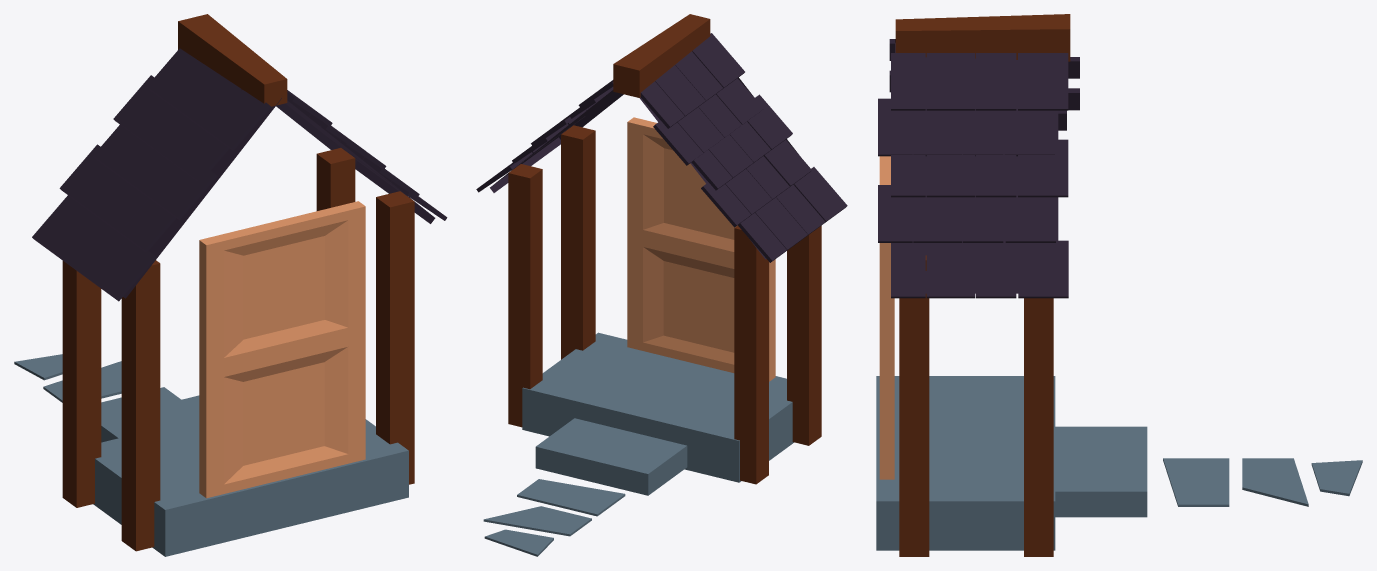
Rendered from FrontFacade.fbx.
3 renders of one model, left to right at view 1: azimuth 30°, elevation 25°; view 2: azimuth 150°, elevation 25°; view 3: azimuth 270°, elevation 25°, orthographic. The views are drawn at different scales.
Visible parts, largest first — view 1: Door, Plane.023, Cube.005, Cube.001, Cube.002, Cube.003, Cube, Cube.004, Plane.002, Plane.001, Plane, Cube.006 (+3 smaller); view 2: Door, Plane.023, Cube.005, Cube.004, Cube.003, Cube.002, Cube.006, Cube.001, Cube, Cube.007, Cube.008, Plane.002 (+2 smaller); view 3: Plane.002, Cube.005, Cube.006, Cube.002, Cube.004, Cube, Door, Cube.007, Cube.008, Cube.009, Plane.001, Plane.023.
Part boxes in pixels (left/top/right/bottom): Door: left=199, top=201, right=365, bottom=498; Plane.023: left=32, top=48, right=270, bottom=301; Cube.005: left=93, top=419, right=408, bottom=556; Cube.001: left=121, top=260, right=160, bottom=551; Cube.002: left=376, top=191, right=414, bottom=484; Cube.003: left=62, top=261, right=101, bottom=507; Cube: left=178, top=14, right=287, bottom=106; Cube.004: left=316, top=148, right=355, bottom=210; Plane.002: left=287, top=90, right=447, bottom=220; Plane.001: left=276, top=100, right=435, bottom=223; Plane: left=123, top=98, right=281, bottom=298; Cube.006: left=101, top=395, right=199, bottom=442; Door: left=627, top=117, right=775, bottom=381; Plane.023: left=640, top=33, right=847, bottom=262; Cube.005: left=522, top=332, right=793, bottom=482; Cube.004: left=508, top=164, right=542, bottom=427; Cube.003: left=734, top=226, right=768, bottom=484; Cube.002: left=561, top=125, right=595, bottom=359; Cube.006: left=535, top=418, right=687, bottom=495; Cube.001: left=787, top=225, right=821, bottom=445; Cube: left=613, top=14, right=710, bottom=97; Cube.007: left=517, top=479, right=625, bottom=516; Cube.008: left=483, top=506, right=591, bottom=536; Plane.002: left=476, top=80, right=613, bottom=192; Plane.002: left=878, top=53, right=1068, bottom=298; Cube.005: left=876, top=376, right=1055, bottom=550; Cube.006: left=1055, top=426, right=1147, bottom=517; Cube.002: left=899, top=255, right=929, bottom=556; Cube.004: left=1024, top=298, right=1053, bottom=556; Cube: left=895, top=14, right=1070, bottom=61; Door: left=879, top=156, right=894, bottom=479; Cube.007: left=1163, top=458, right=1229, bottom=506; Cube.008: left=1242, top=458, right=1308, bottom=506; Cube.009: left=1311, top=460, right=1362, bottom=496; Plane.001: left=895, top=40, right=1058, bottom=293; Plane.023: left=889, top=39, right=1079, bottom=130.
Bounding box in the file's own units: 799 × 1018 × 964.
